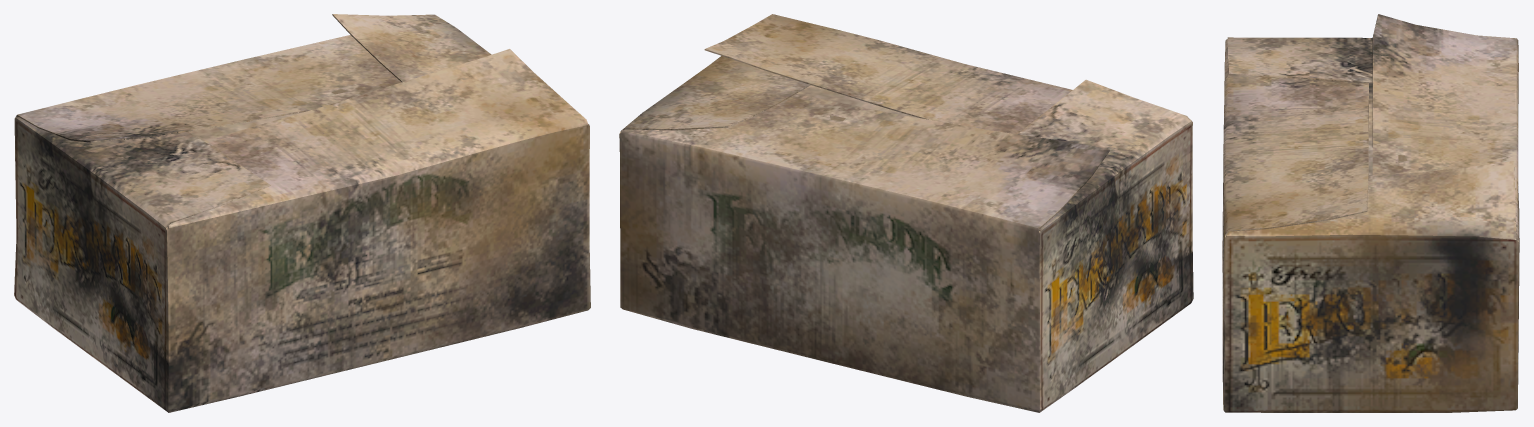
File: pack_food_empty_01.DAE
The picture shows the model from 3 angles, left to right: view 1: azimuth 30°, elevation 25°; view 2: azimuth 150°, elevation 25°; view 3: azimuth 270°, elevation 25°; orthographic projection. The views are drawn at different scales.
Parts seen in each view (by area): view 1: pack_food_empty_01; view 2: pack_food_empty_01; view 3: pack_food_empty_01.
Boxes of the visible parts, x1=… form: pack_food_empty_01: x1=14, y1=14, x2=590, y2=412; pack_food_empty_01: x1=619, y1=14, x2=1193, y2=412; pack_food_empty_01: x1=1222, y1=14, x2=1519, y2=412.
Bounding box in the file's own units: 12.3 × 5.91 × 7.79.
